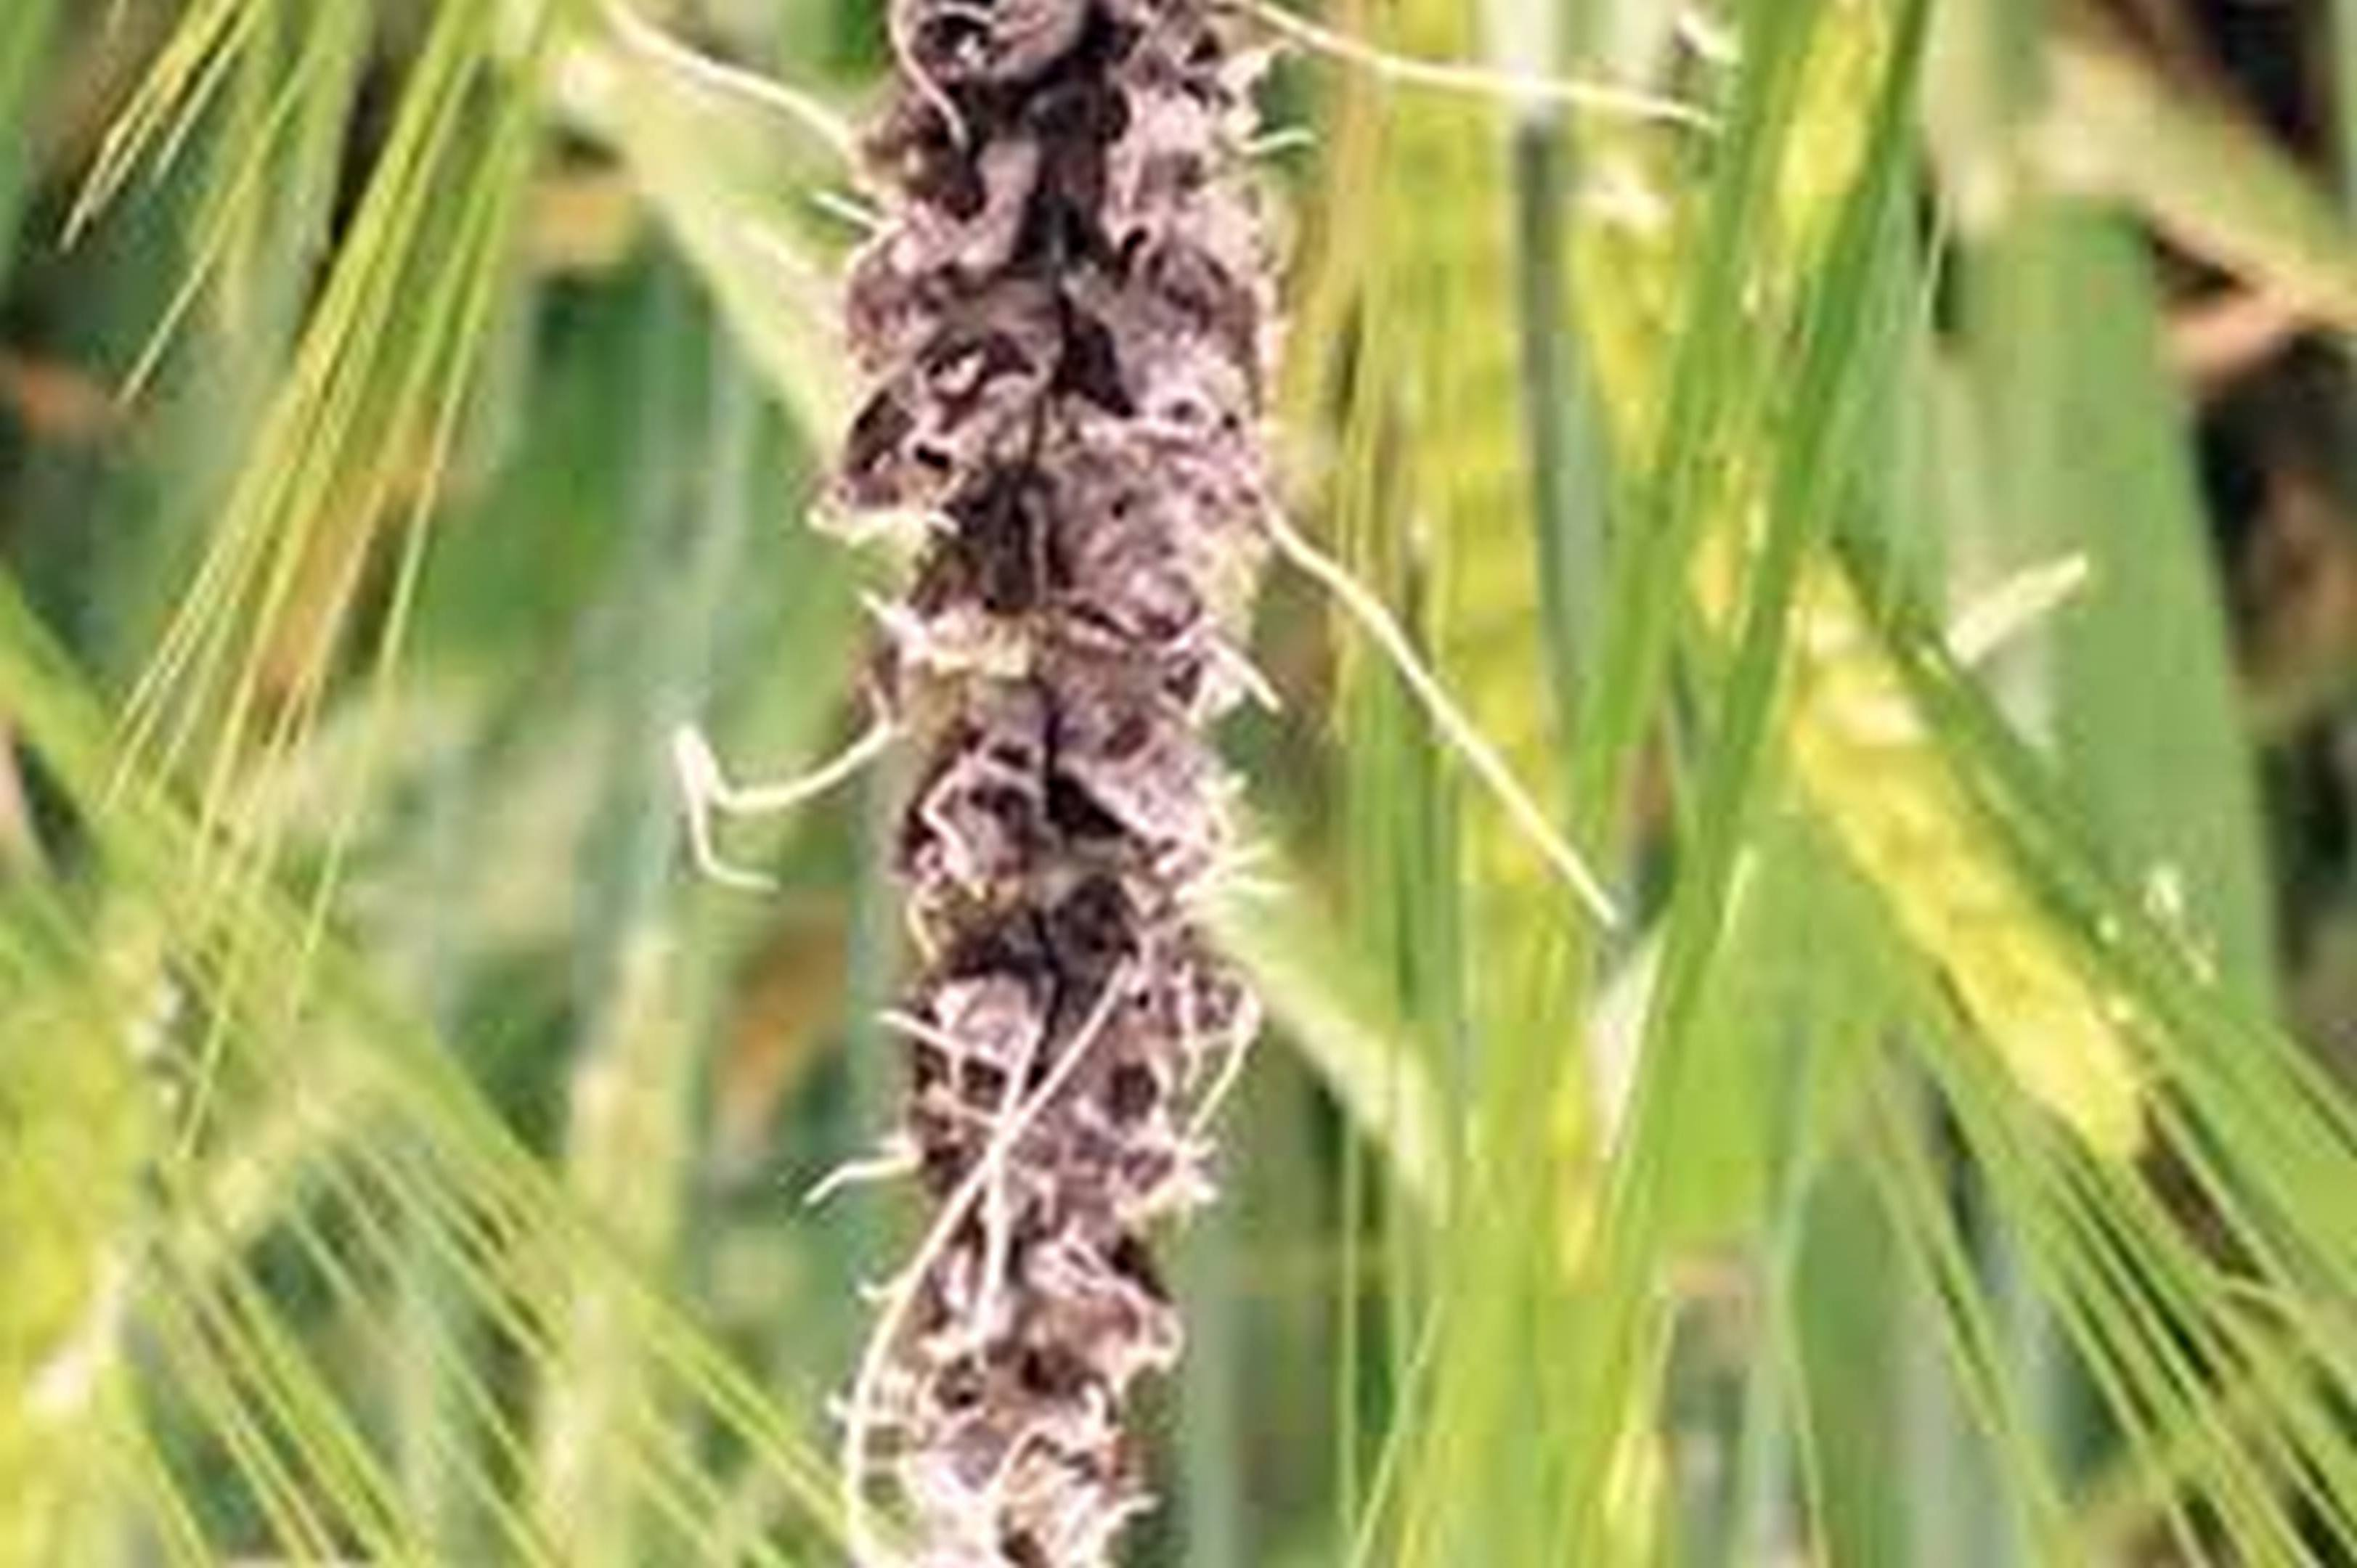Wheat Loose Smut: (812, 0, 1326, 1526)
